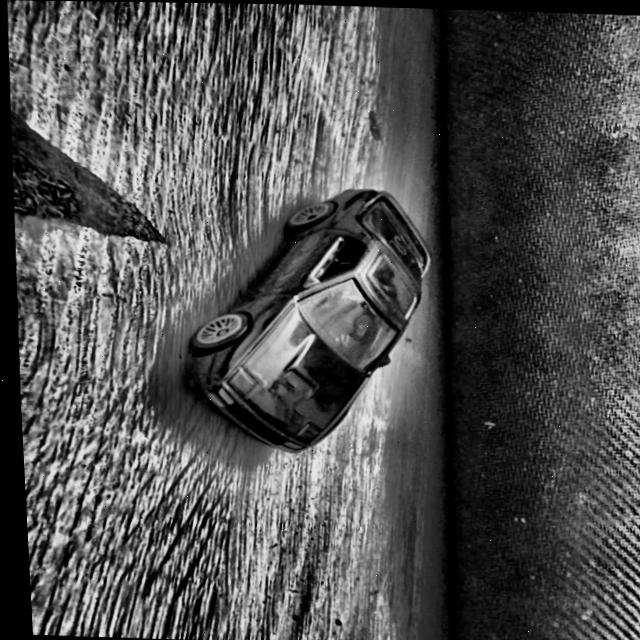car: (172, 182, 438, 456)
